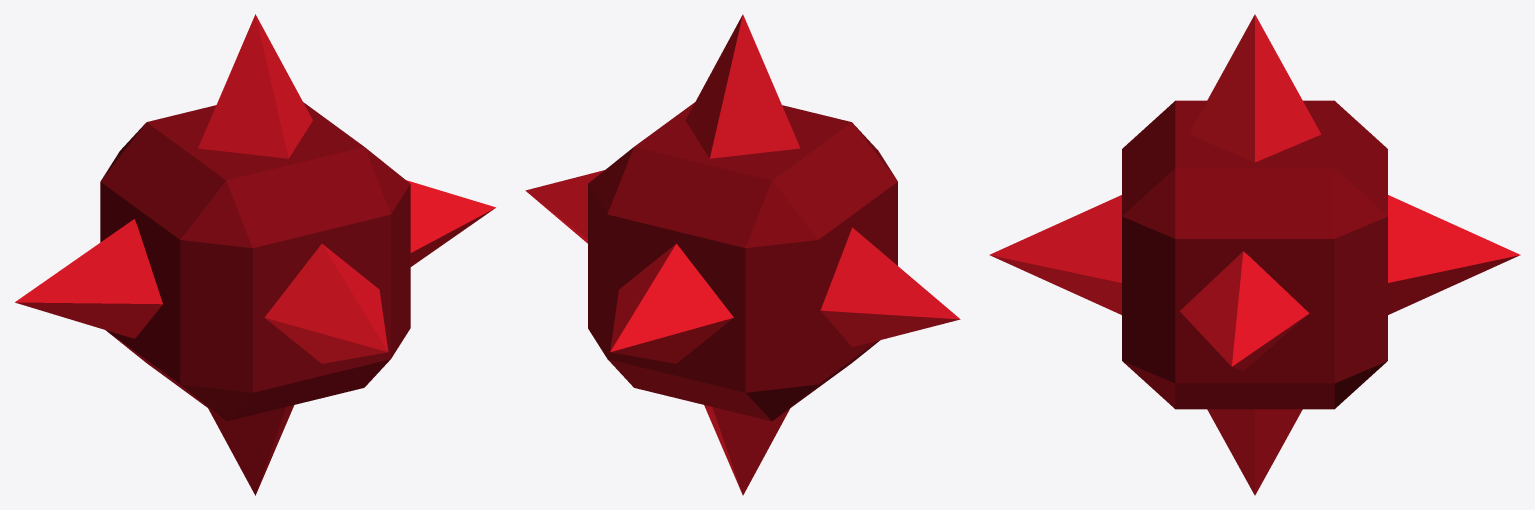
The model's file is Spike_Ball.glb.
3 views of the same model, side by side, from view 1: azimuth 30°, elevation 25°; view 2: azimuth 150°, elevation 25°; view 3: azimuth 270°, elevation 25° (orthographic).
Visible parts, largest first — view 1: Spike_Ball; view 2: Spike_Ball; view 3: Spike_Ball.
Boxes of the visible parts, x1,y1,x2,y2 form: Spike_Ball: [15, 14, 495, 495]; Spike_Ball: [525, 14, 960, 495]; Spike_Ball: [989, 14, 1520, 495].
Bounding box in the file's own units: 0.797 × 0.8 × 0.8.
